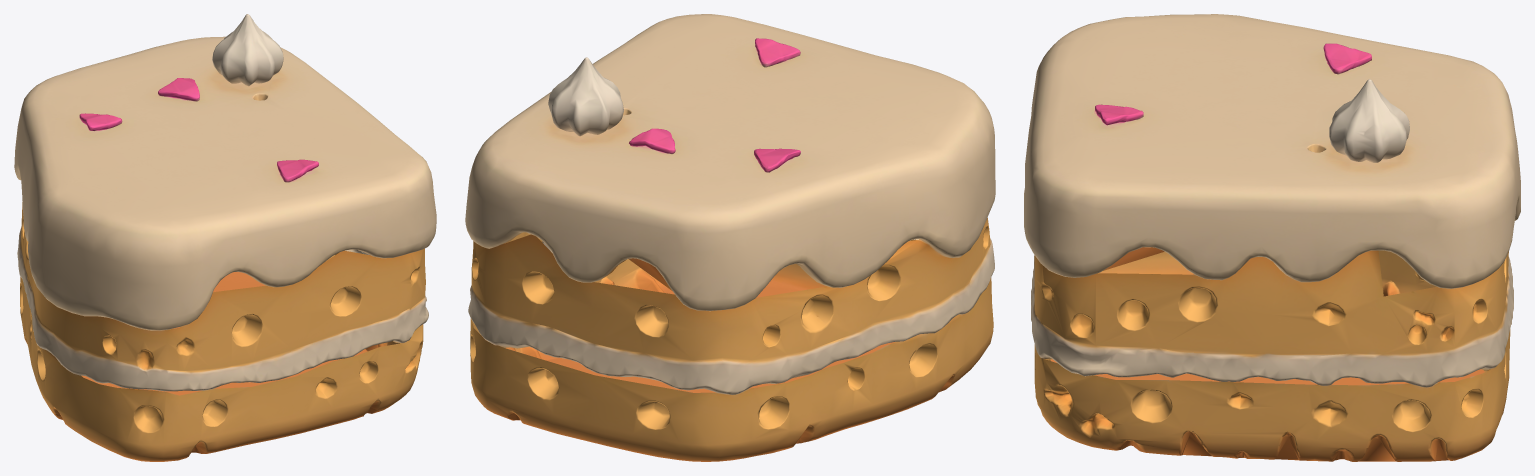
The model's file is Tripo_cream_block.fbx.
3 renders of one model, left to right at view 1: azimuth 30°, elevation 25°; view 2: azimuth 150°, elevation 25°; view 3: azimuth 270°, elevation 25°, orthographic. The views are drawn at different scales.
Visible parts, largest first — view 1: Tripo_cream_block; view 2: Tripo_cream_block; view 3: Tripo_cream_block.
Boxes of the visible parts, x1=… form: Tripo_cream_block: x1=14, y1=14, x2=436, y2=461; Tripo_cream_block: x1=465, y1=14, x2=995, y2=461; Tripo_cream_block: x1=1024, y1=14, x2=1520, y2=461.
Size of the model in its own units: 0.9551 by 0.7754 by 0.998.
1 material, 1 textured.
